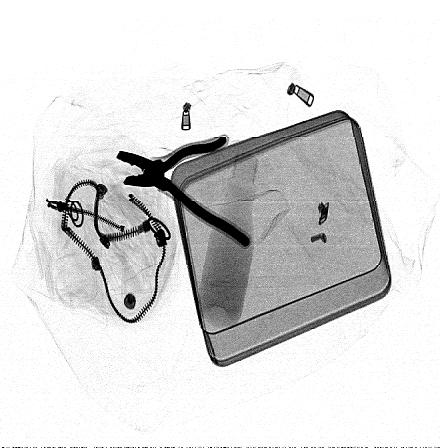Pliers: (115, 135, 250, 250)
